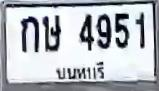1: (134, 11, 144, 48)
4: (78, 13, 93, 50)
5: (114, 12, 129, 48)
9: (96, 13, 110, 48)
A01: (20, 15, 39, 52)
A39: (42, 14, 60, 51)
NBI: (51, 57, 112, 83)
